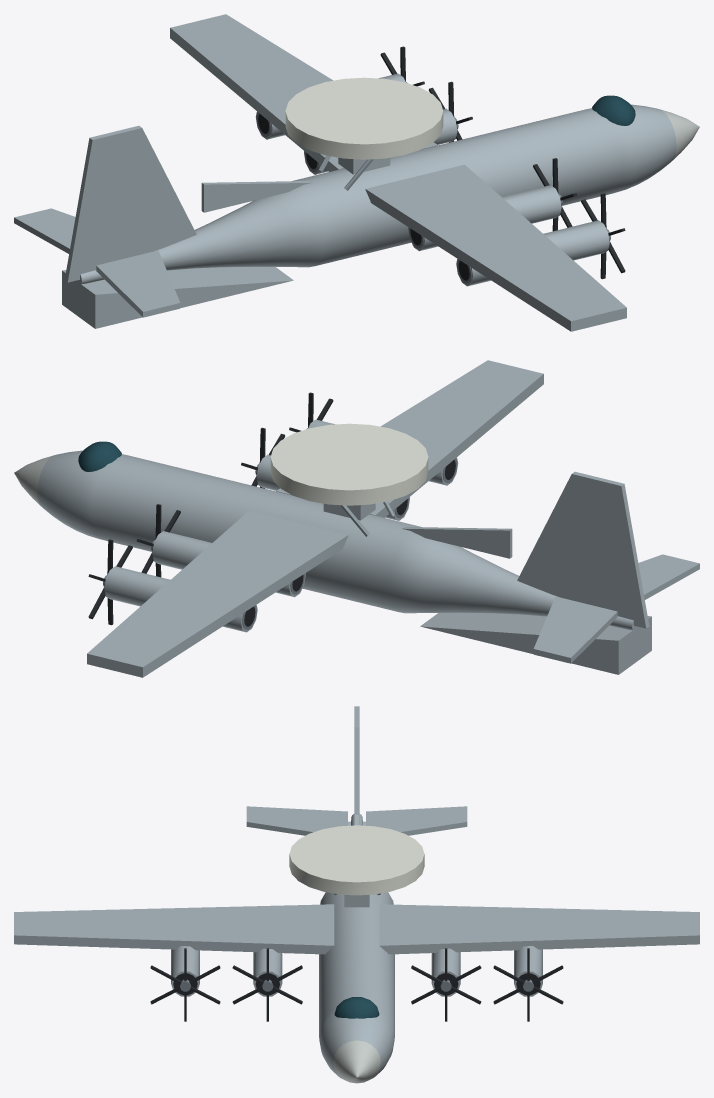
Rendered from pla_aew_kj500.glb.
The picture shows the model from 3 angles, top to bottom: view 1: azimuth 30°, elevation 25°; view 2: azimuth 150°, elevation 25°; view 3: azimuth 270°, elevation 25°; orthographic projection. The views are drawn at different scales.
Visible parts, largest first — view 1: naval_paint, radome, rubber, glazing, array_face; view 2: naval_paint, radome, rubber, glazing, array_face; view 3: naval_paint, radome, rubber, array_face, glazing.
Part boxes in pixels (x1,y1,x2,y2): naval_paint: (14,14,676,331); radome: (285,77,443,159); rubber: (258,46,625,280); glazing: (592,95,635,125); array_face: (659,109,699,159); naval_paint: (37,360,699,677); radome: (270,423,428,505); rubber: (88,392,455,626); glazing: (78,441,121,471); array_face: (14,455,54,505); naval_paint: (14,706,699,1078); radome: (289,825,424,895); rubber: (150,948,563,1021); array_face: (333,1040,380,1083); glazing: (334,997,379,1018).
Size of the model in its own units: 9.13 by 2.43 by 10.
